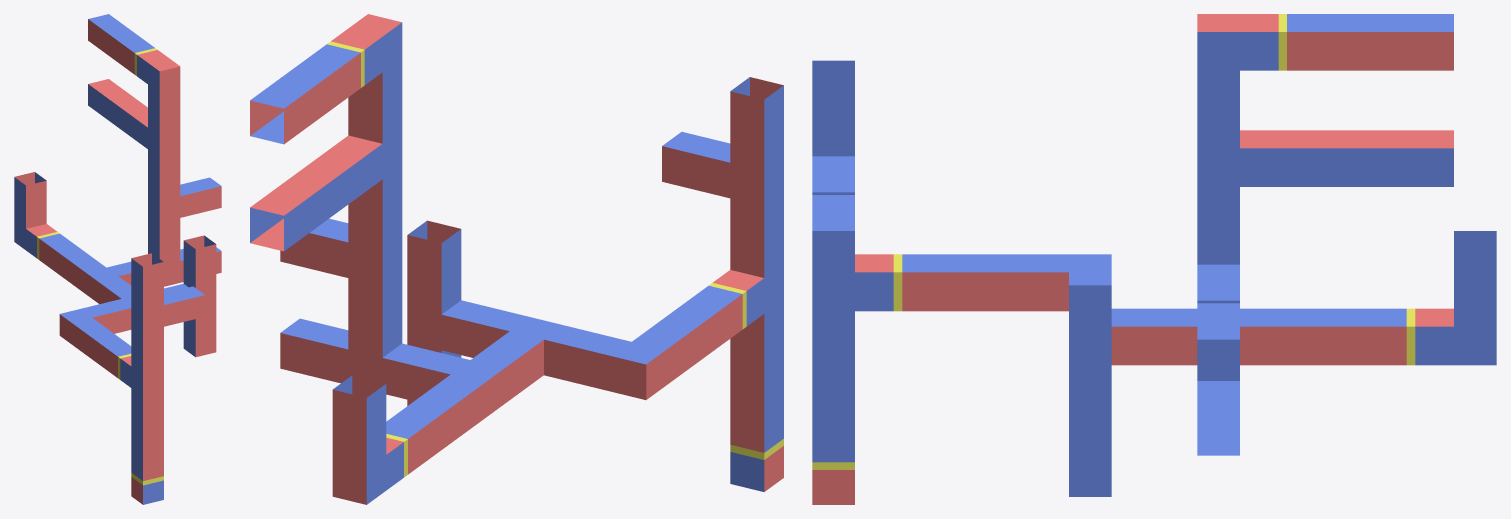
Rendered from teleportation_n3_open_port.dae.
3 views of the same model, side by side, from view 1: azimuth 30°, elevation 25°; view 2: azimuth 150°, elevation 25°; view 3: azimuth 270°, elevation 25° (orthographic). The views are drawn at different scales.
Visible parts, largest first — view 1: ZXO (×18), ZXX (×12), XOZ (×8), OXZ (×6), ZXZ (×6), ZOX (×4), XZZ (×6), XXZ (×4), ZOXH (×4), XZOH (×2), XOZH; view 2: ZXO (×16), OXZ (×12), XOZ (×10), ZXX (×10), ZOX (×6), ZXZ (×6), ZOXH (×8), XXZ (×6), XZZ (×6), XZOH (×4), XOZH (×2); view 3: ZXO (×12), XOZ (×8), ZXX (×8), ZOX (×4), OXZ (×6), XZZ (×6), ZOXH (×6), XOZH (×4), XZOH (×2), ZXZ, XXZ.
Part boxes in pixels (x1=…): ZXO (×18): x1=14, y1=85, x2=216, y2=439; ZXX (×12): x1=14, y1=57, x2=180, y2=461; XOZ (×8): x1=62, y1=14, x2=132, y2=361; OXZ (×6): x1=81, y1=177, x2=221, y2=333; ZXZ (×6): x1=131, y1=193, x2=216, y2=331; ZOX (×4): x1=88, y1=79, x2=147, y2=148; XZZ (×6): x1=50, y1=31, x2=144, y2=369; XXZ (×4): x1=59, y1=267, x2=117, y2=343; ZOXH (×4): x1=107, y1=45, x2=147, y2=387; XZOH (×2): x1=143, y1=456, x2=163, y2=504; XOZH: x1=26, y1=229, x2=36, y2=258; ZXO (×16): x1=332, y1=58, x2=783, y2=469; OXZ (×12): x1=280, y1=132, x2=730, y2=400; XOZ (×10): x1=250, y1=71, x2=705, y2=446; ZXX (×10): x1=290, y1=14, x2=783, y2=504; ZOX (×6): x1=250, y1=135, x2=382, y2=251; ZXZ (×6): x1=348, y1=157, x2=783, y2=382; ZOXH (×8): x1=309, y1=28, x2=764, y2=342; XXZ (×6): x1=451, y1=317, x2=665, y2=418; XZZ (×6): x1=290, y1=57, x2=724, y2=461; XZOH (×4): x1=730, y1=406, x2=783, y2=491; XOZH (×2): x1=386, y1=426, x2=425, y2=490; ZXO (×12): x1=812, y1=60, x2=1496, y2=496; XOZ (×8): x1=983, y1=14, x2=1453, y2=365; ZXX (×8): x1=812, y1=14, x2=1496, y2=427; ZOX (×4): x1=1240, y1=130, x2=1453, y2=186; OXZ (×6): x1=812, y1=156, x2=1239, y2=455; XZZ (×6): x1=940, y1=14, x2=1368, y2=365; ZOXH (×6): x1=855, y1=32, x2=1325, y2=311; XOZH (×4): x1=1368, y1=308, x2=1453, y2=365; XZOH (×2): x1=812, y1=427, x2=854, y2=504; ZXZ: x1=1069, y1=381, x2=1111, y2=419; XXZ: x1=1069, y1=254, x2=1111, y2=272.
Bounding box in the file's own units: 9 × 16 × 15.
